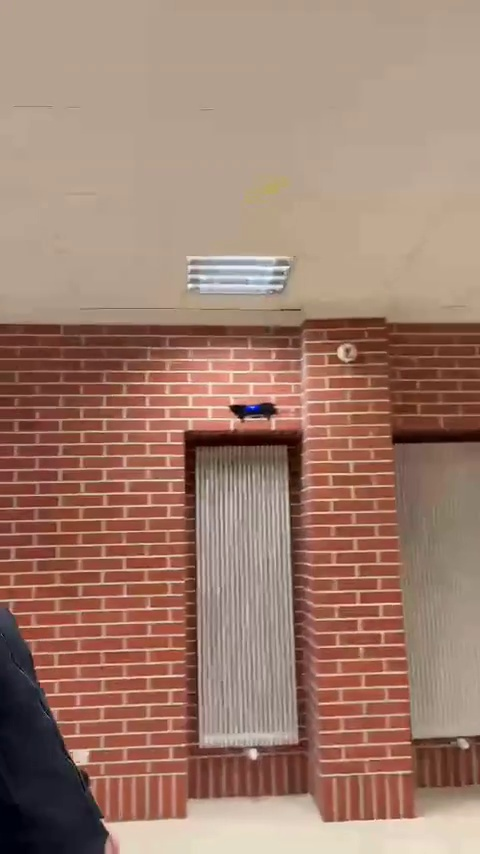drone: (230, 399, 279, 425)
